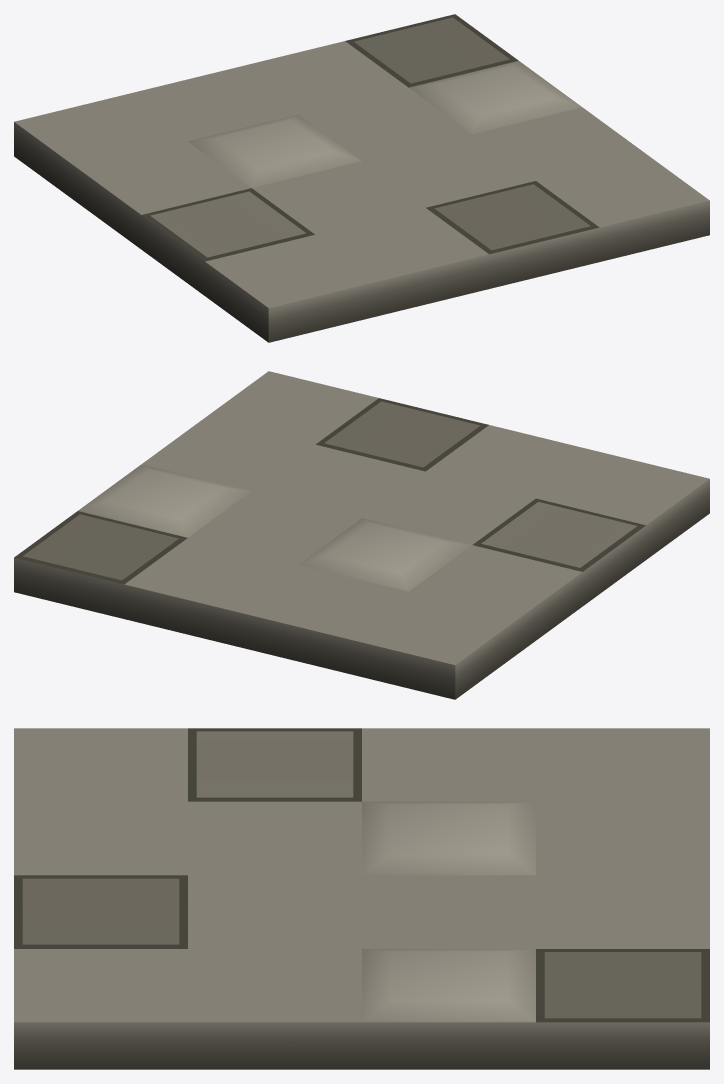
The model's file is Pavement_1P_4x4.fbx.
The picture shows the model from 3 angles, top to bottom: view 1: azimuth 30°, elevation 25°; view 2: azimuth 150°, elevation 25°; view 3: azimuth 270°, elevation 25°; orthographic projection. The views are drawn at different scales.
Visible parts, largest first — view 1: Pavement_1P_4x4; view 2: Pavement_1P_4x4; view 3: Pavement_1P_4x4.
Boxes of the visible parts, bbox=[...] form: Pavement_1P_4x4: bbox=[14, 14, 709, 342]; Pavement_1P_4x4: bbox=[14, 371, 709, 699]; Pavement_1P_4x4: bbox=[14, 728, 709, 1069].
Size of the model in its own units: 4 by 0.3565 by 4.
